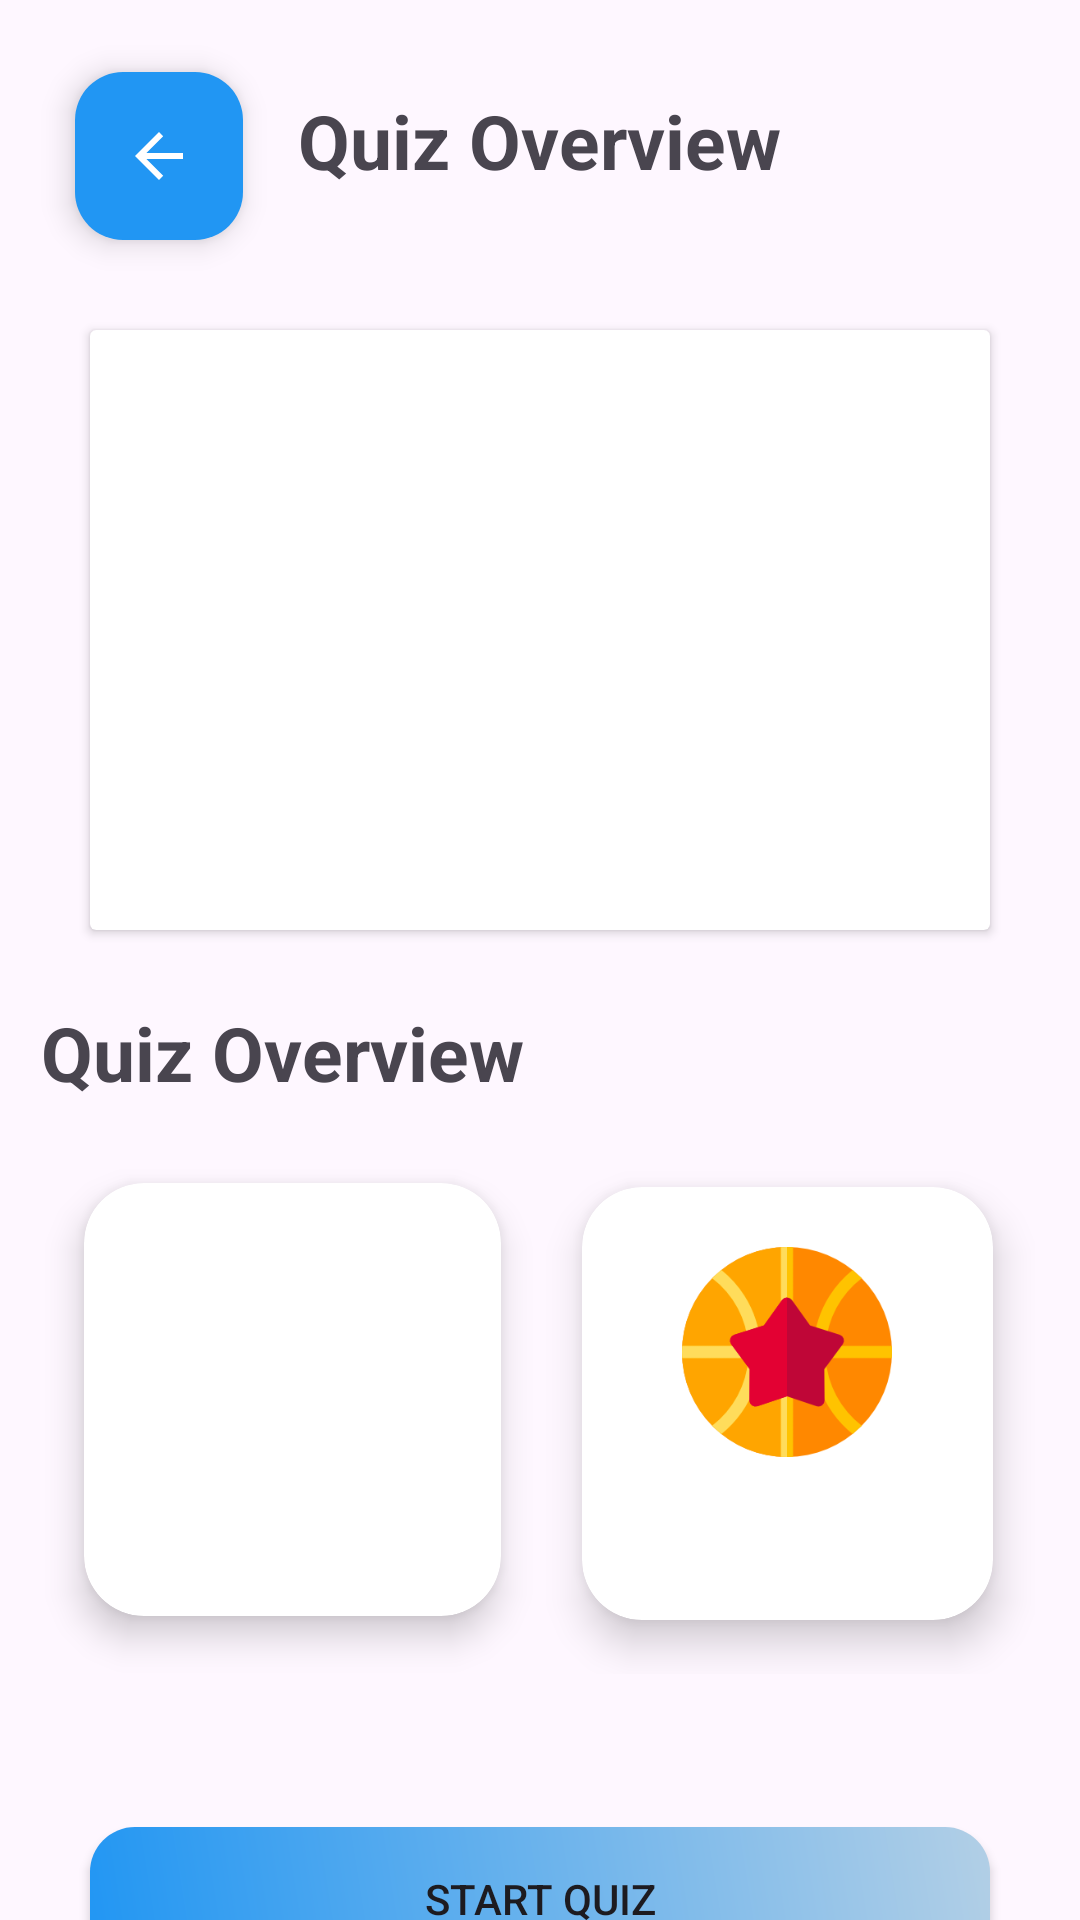

Point at icon controls on the screen. Image size 1080 x 1920, points as point (x, y).
exp points: point (787, 1352)
